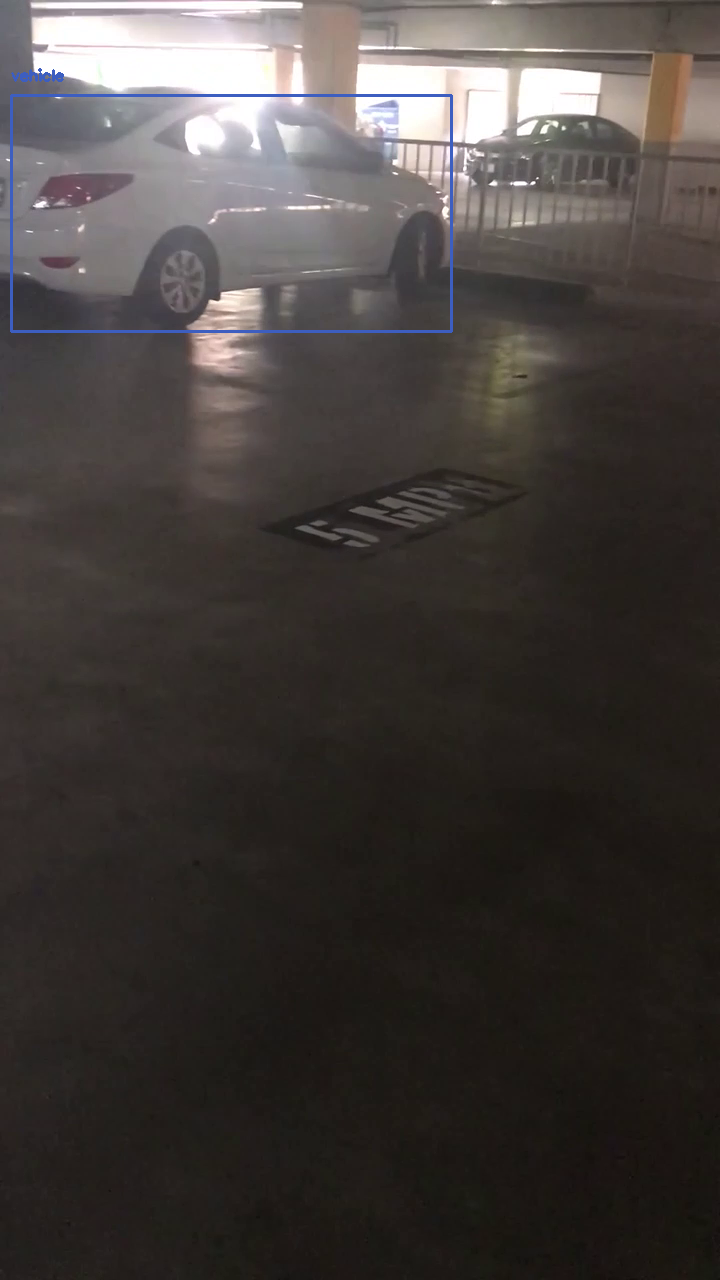vehicle: (11, 95, 451, 331)
